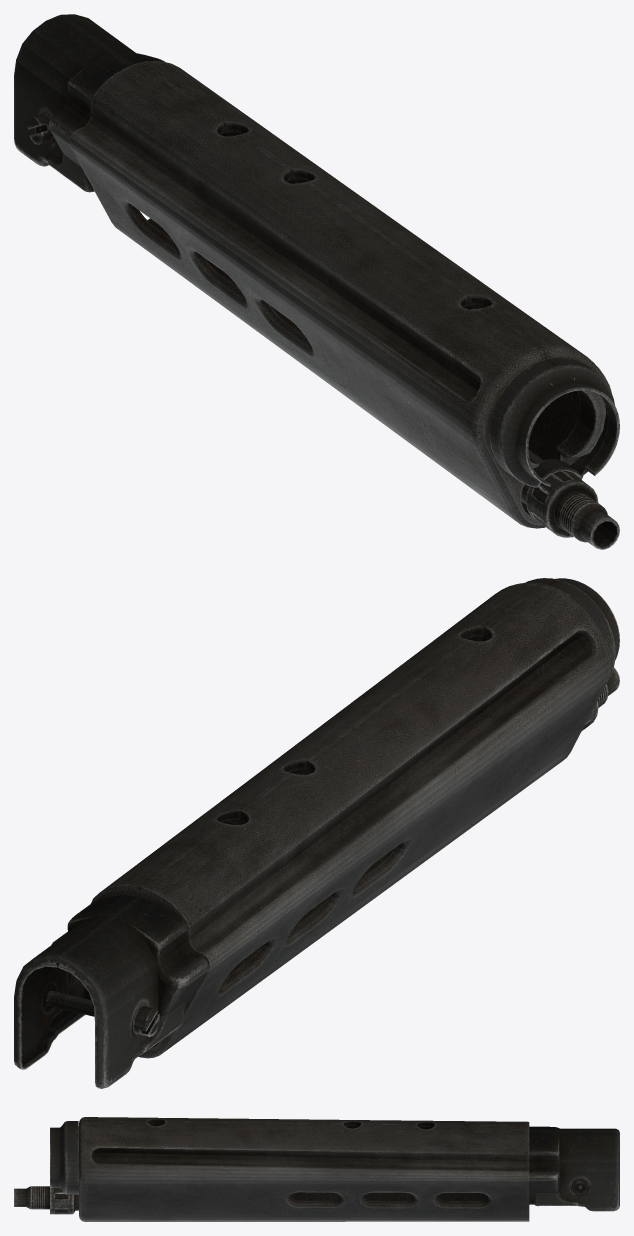
3 renders of one model, top to bottom at view 1: azimuth 30°, elevation 25°; view 2: azimuth 150°, elevation 25°; view 3: azimuth 270°, elevation 25°, orthographic. The views are drawn at different scales.
Visible parts, largest first — view 1: TW_5b7d671b5acfc43d82528ddd_PZ_Import; view 2: TW_5b7d671b5acfc43d82528ddd_PZ_Import; view 3: TW_5b7d671b5acfc43d82528ddd_PZ_Import.
Boxes of the visible parts, <box> form: TW_5b7d671b5acfc43d82528ddd_PZ_Import: <box>14,14,619,549</box>; TW_5b7d671b5acfc43d82528ddd_PZ_Import: <box>14,578,619,1088</box>; TW_5b7d671b5acfc43d82528ddd_PZ_Import: <box>14,1117,619,1221</box>.
Bounding box in the file's own units: 0.027 × 0.1824 × 0.033.
Materials: 1 (1 with a texture image).
